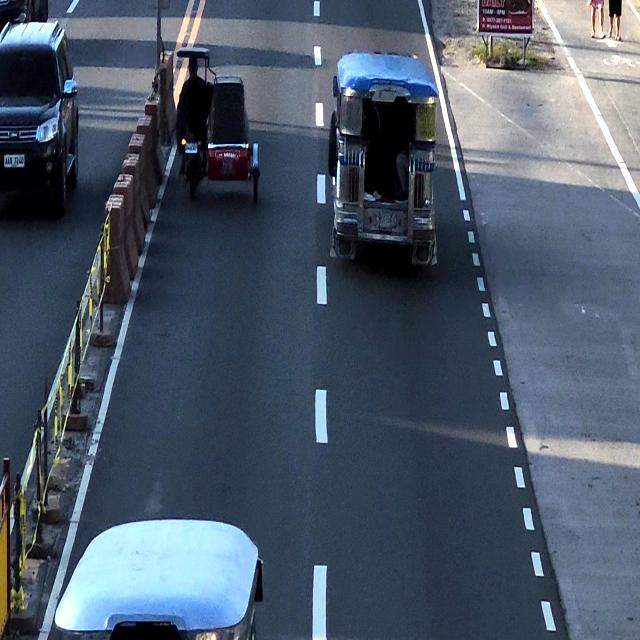Jeep: (66, 518, 264, 640), (331, 56, 436, 266)
License-Plate: (184, 140, 199, 156)
Tricycle: (171, 40, 262, 202)
